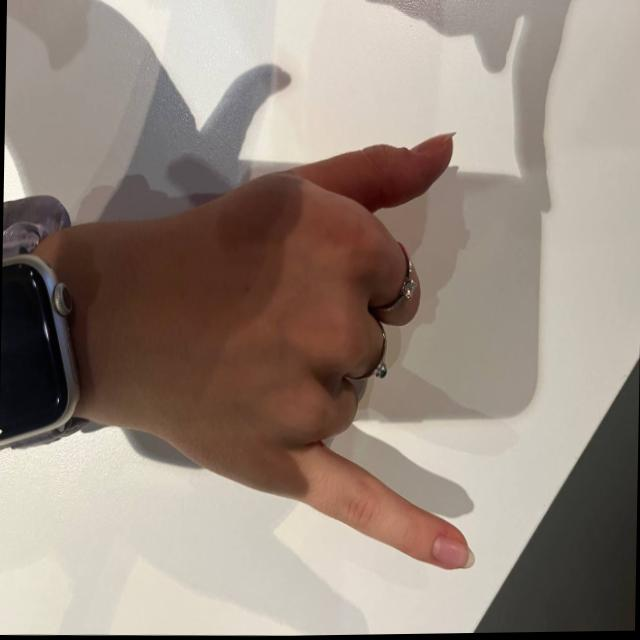u: (153, 116, 507, 592)
